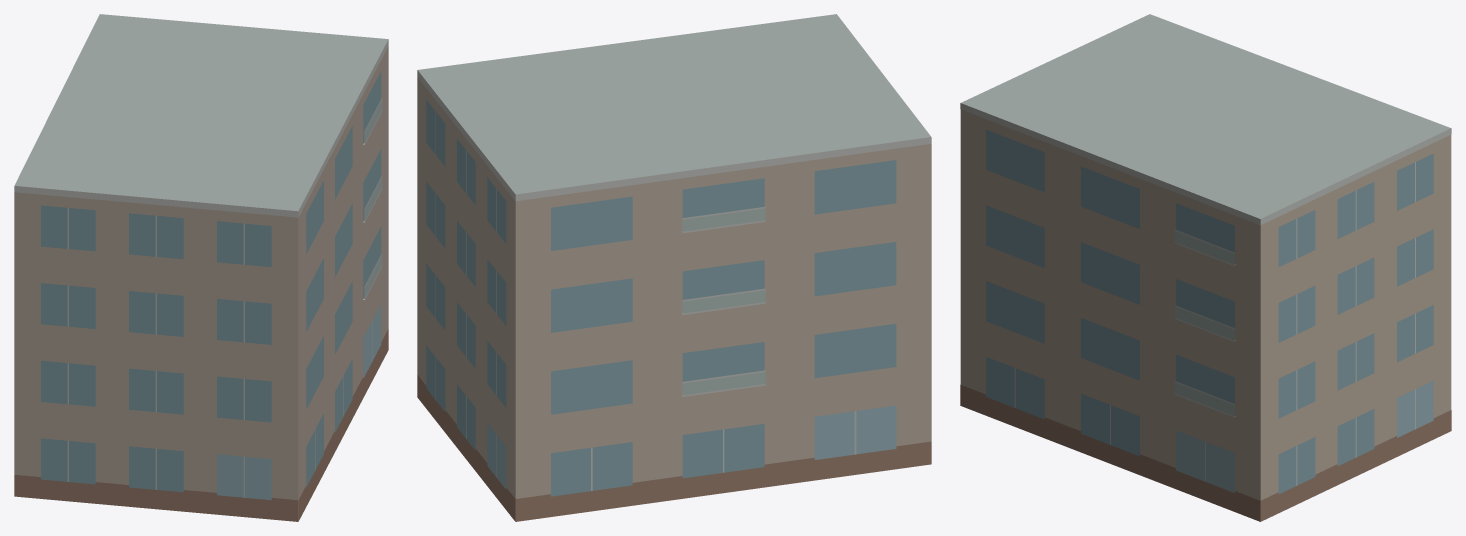
The model's file is survey-upis-32526079.glb.
3 views of the same model, side by side, from view 1: azimuth 30°, elevation 25°; view 2: azimuth 150°, elevation 25°; view 3: azimuth 270°, elevation 25° (orthographic). The views are drawn at different scales.
Visible parts, largest first — view 1: survey-upis-32526079.tmp; view 2: survey-upis-32526079.tmp; view 3: survey-upis-32526079.tmp.
Part boxes in pixels (bbox=[...]): survey-upis-32526079.tmp: bbox=[14, 14, 388, 521]; survey-upis-32526079.tmp: bbox=[417, 14, 931, 521]; survey-upis-32526079.tmp: bbox=[960, 14, 1451, 521].
Size of the model in its own units: 17.14 by 11.8 by 17.34.
